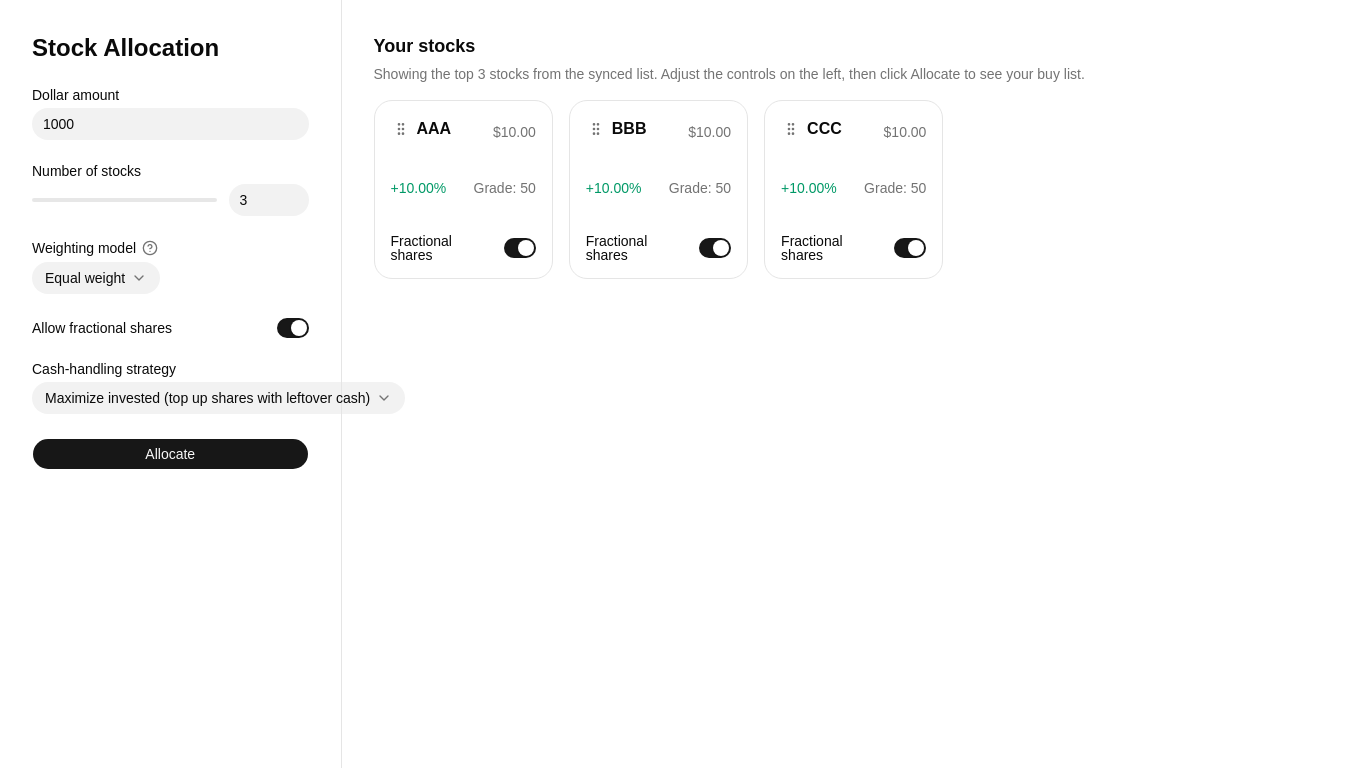
Test: AllocationPage - editing a left-pane input after results exist › immediately clears the results and the bought set
Replace the text in the number field labelled "Dollar amount" with "300": (170, 124) [32,108,308,140]
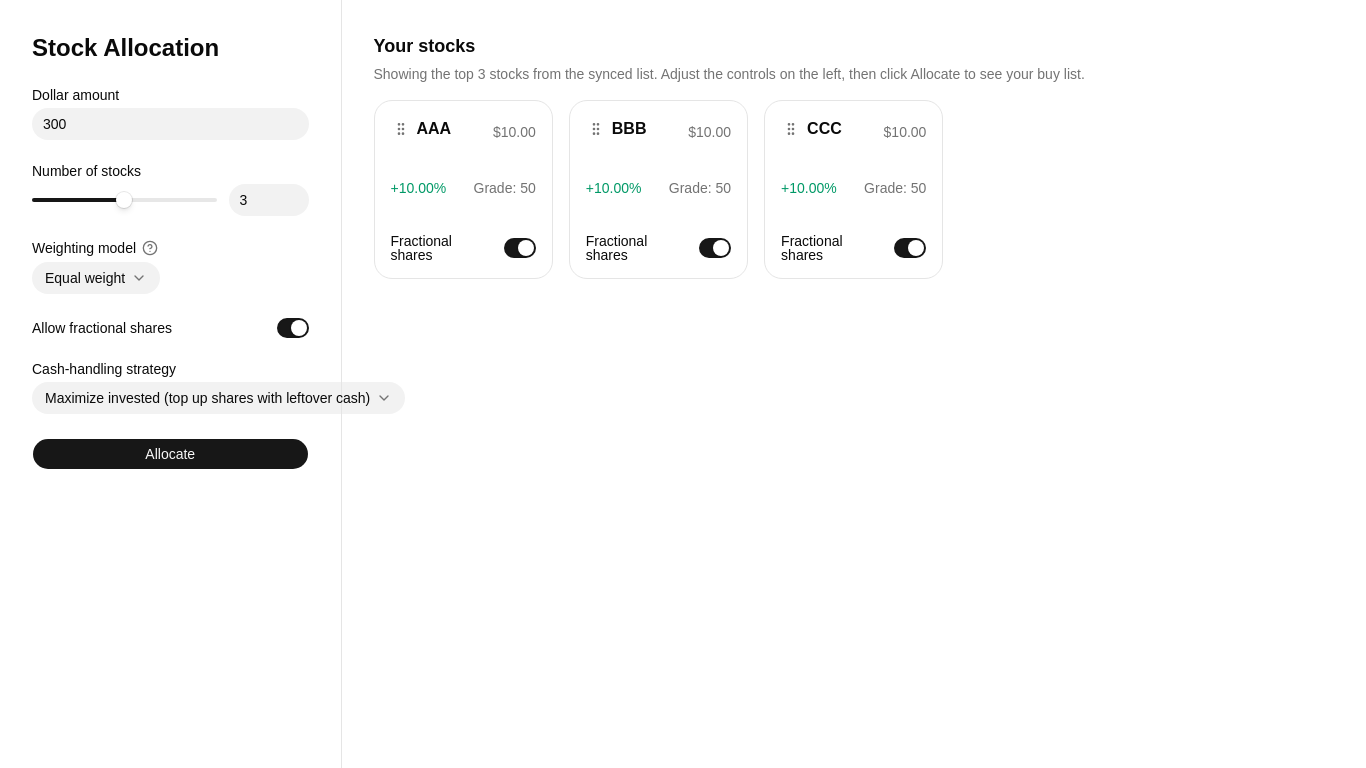
Click the button "Allocate": (170, 454) [32,438,308,470]
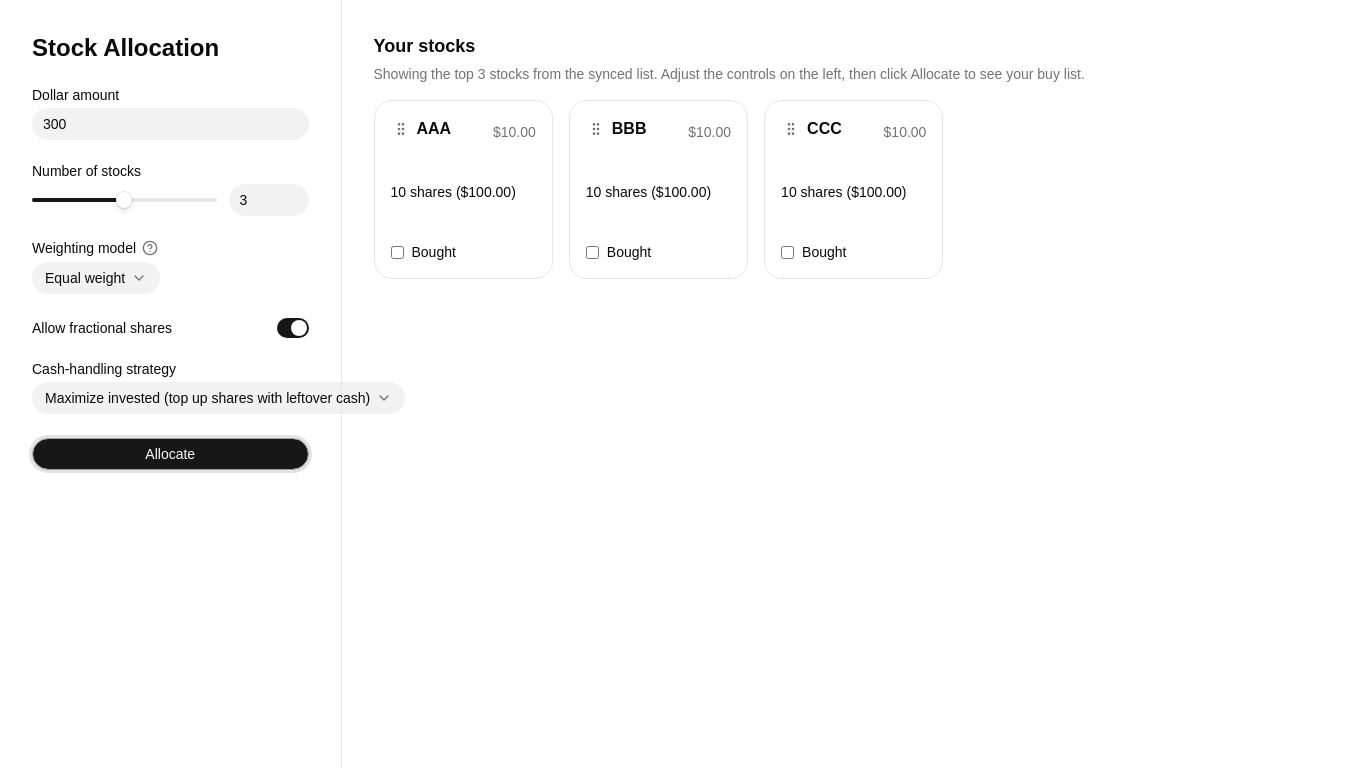
Click the checkbox labelled "Bought" below "AAA": (397, 252) [390,246,404,259]
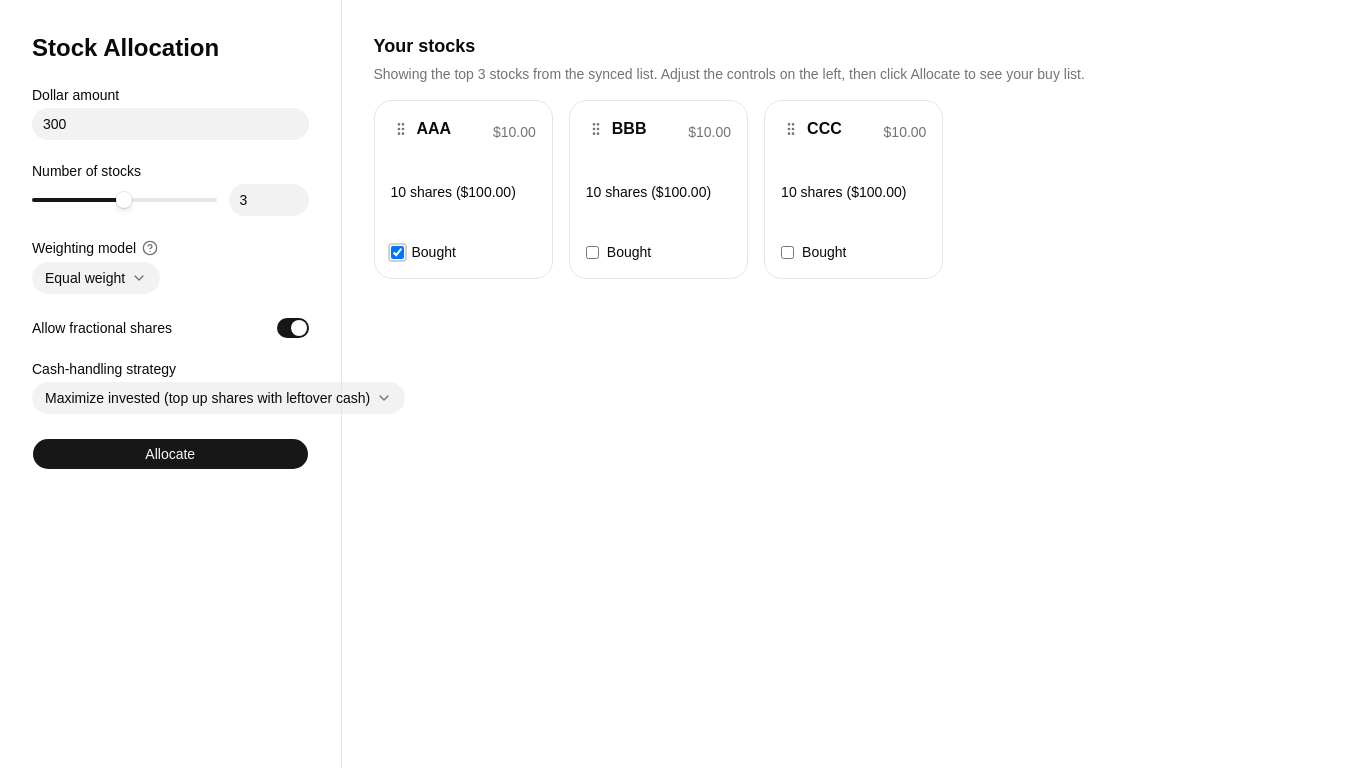
Expected: the checkbox labelled "Bought" below "AAA" is checked, [390,246,404,259]
Replace the text in the number field labelled "Dollar amount" with "600": (170, 124) [32,108,308,140]
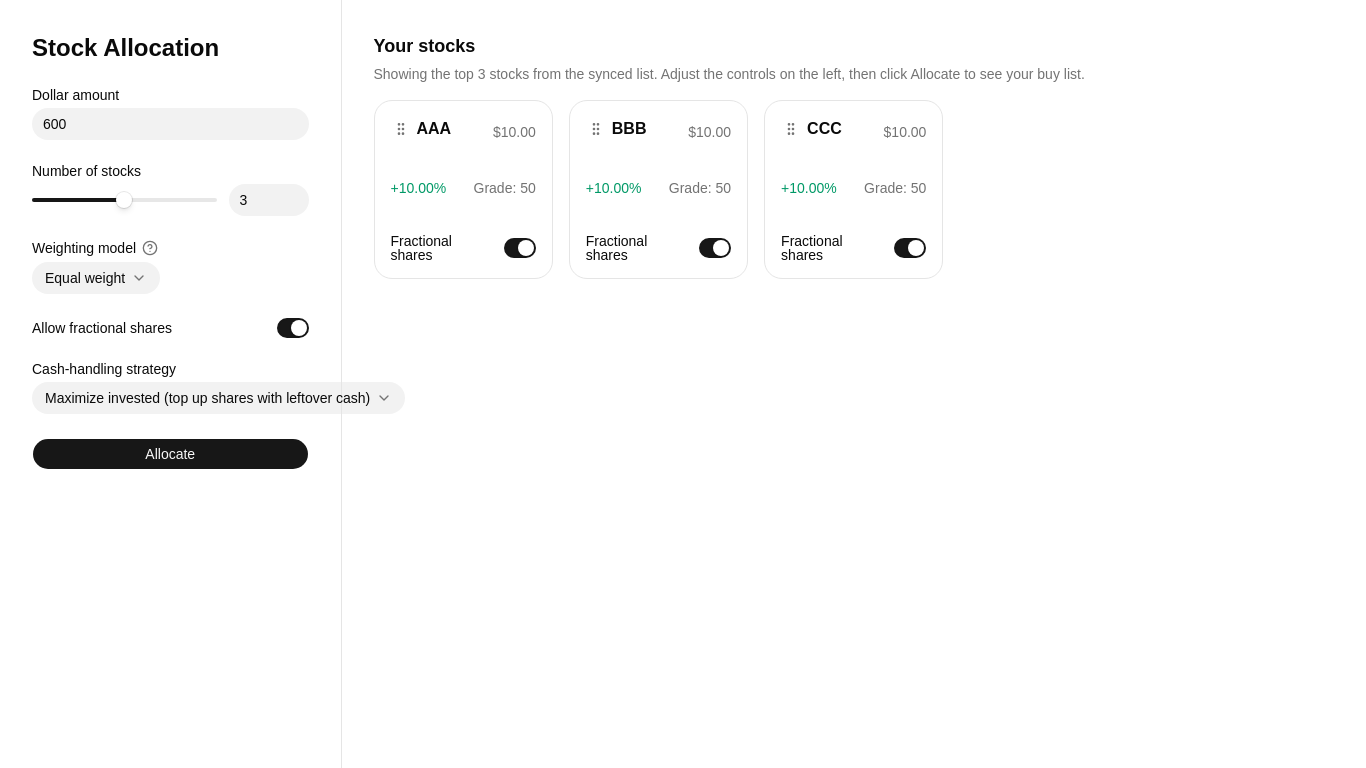
Click the button "Allocate": (170, 454) [32,438,308,470]
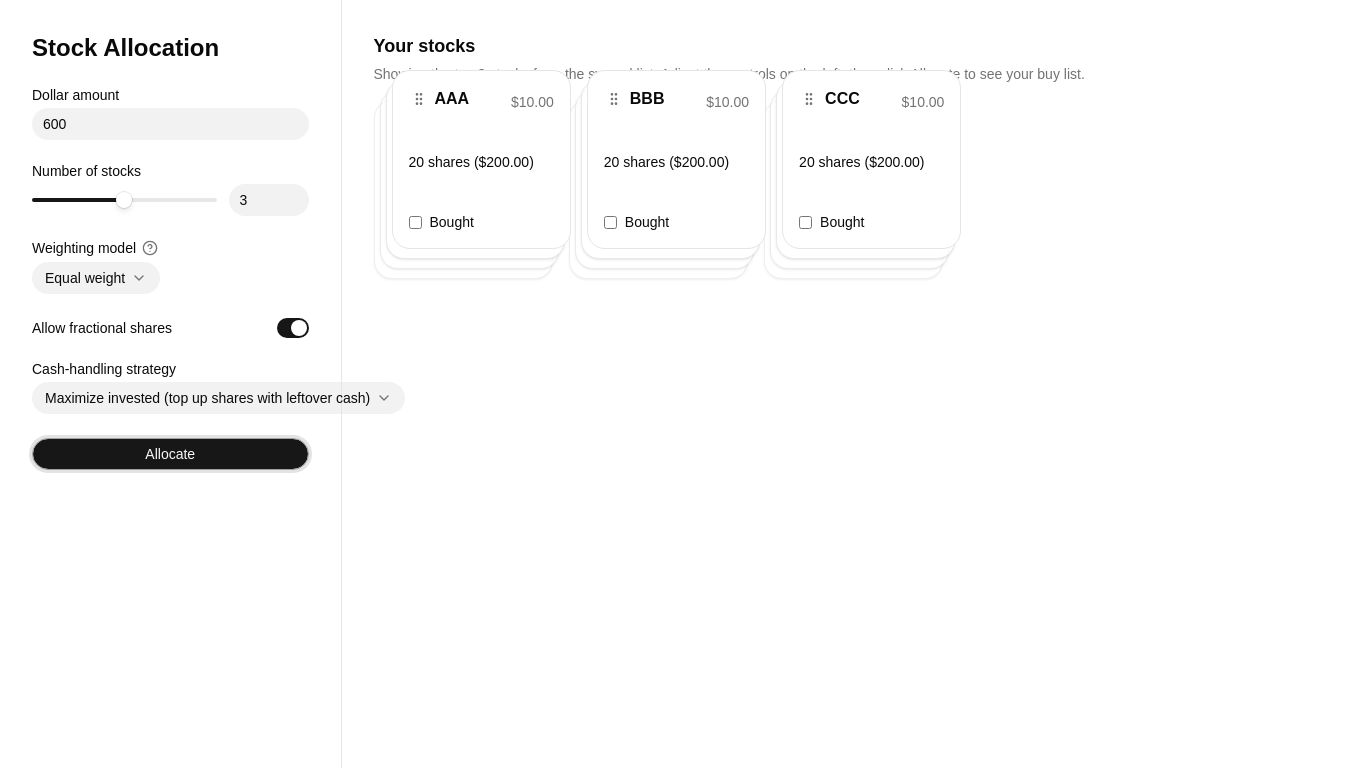
Expected: the checkbox labelled "Bought" below "AAA" is not checked, [408,216,422,229]
